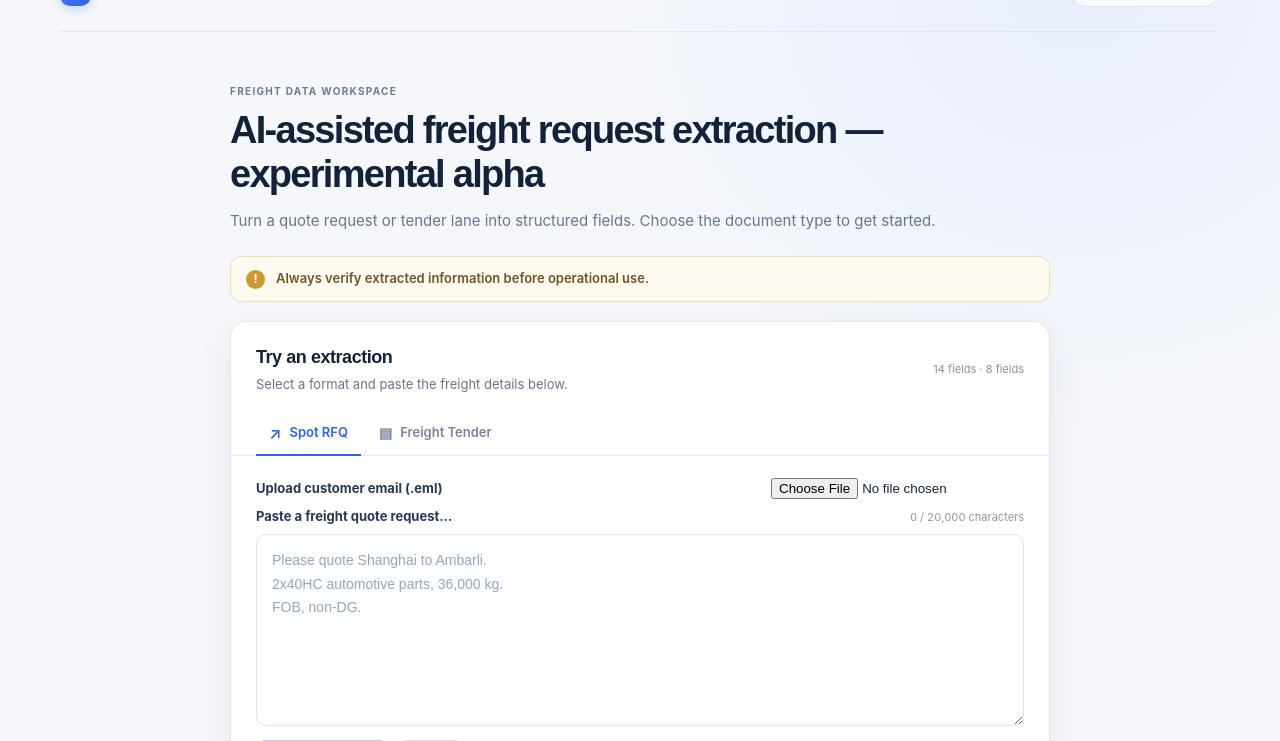
CargoAI public alpha page › shows a useful message when the API cannot be reached
Replace the text in the text box with placeholder "Please quote Shanghai" with "Shanghai to Ambarli" at (640, 630), box [256,534,1024,726]
(page scrolled)
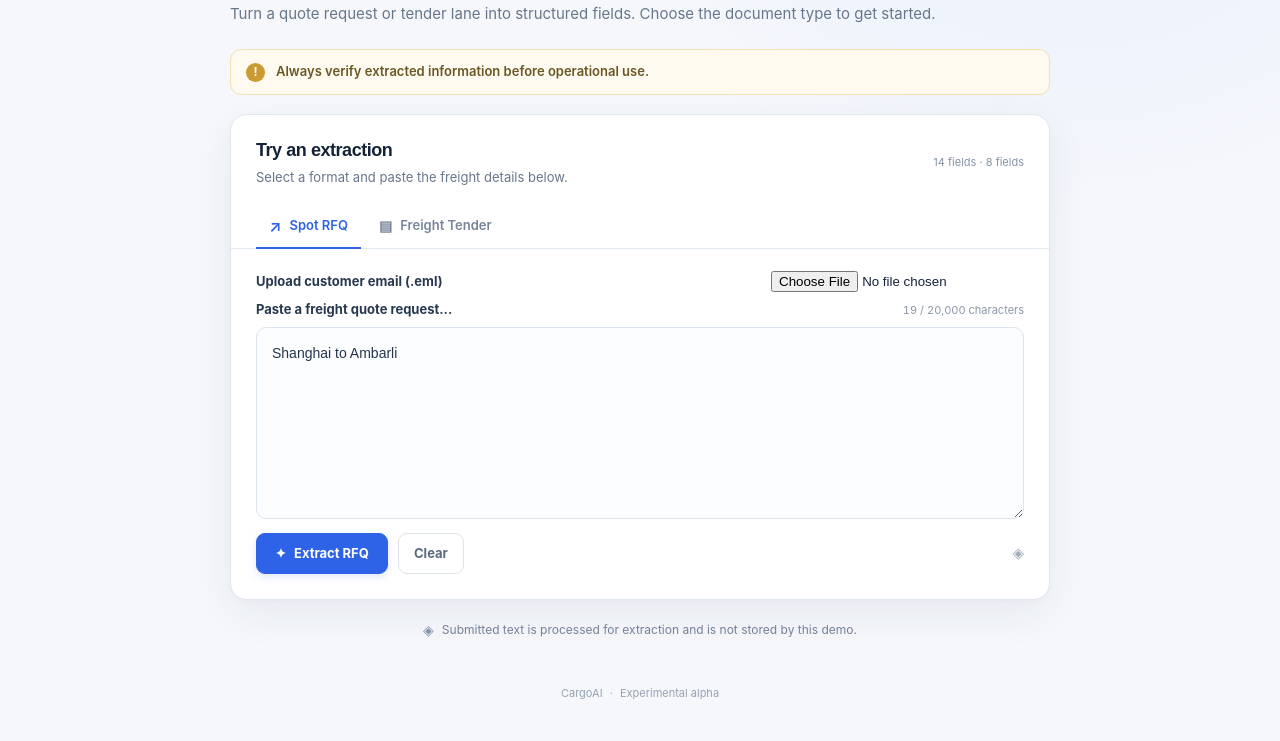
Click the button "✦ Extract RFQ" at (322, 554), box [256,533,388,574]
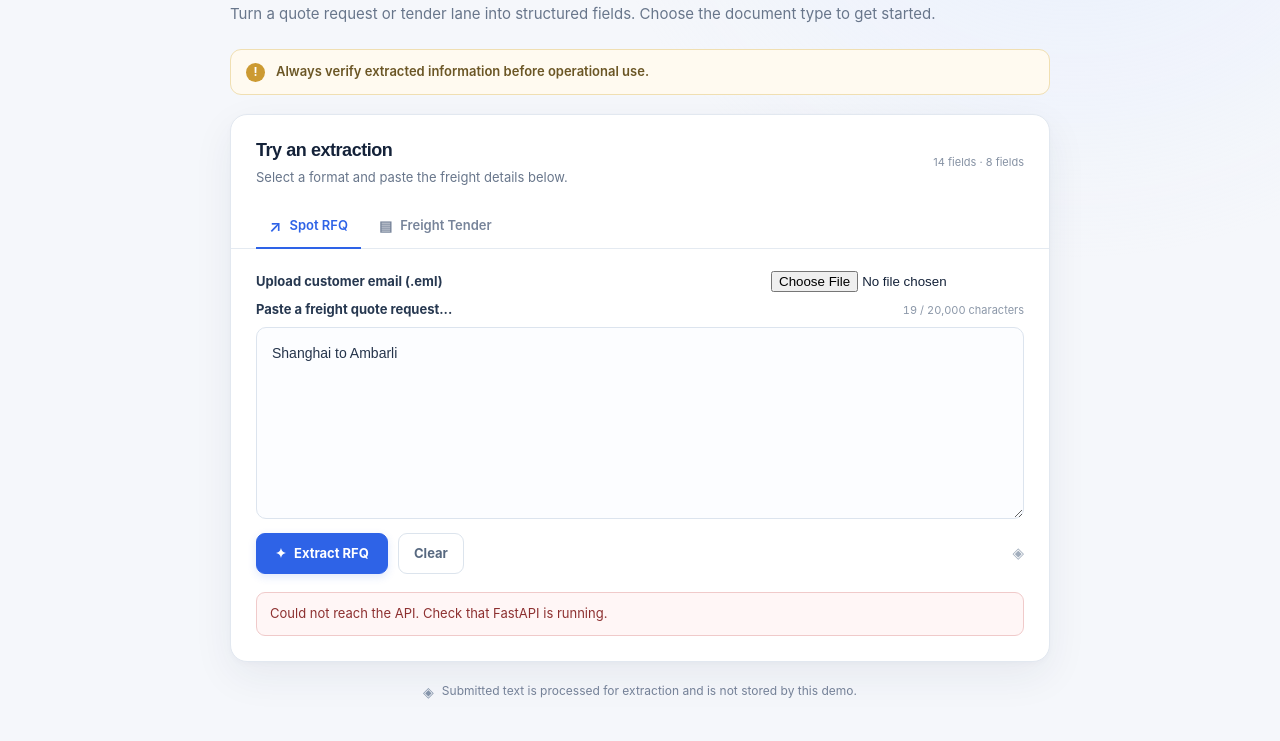
Expected: the message shows "Could not reach the API", [270,605,607,621]
